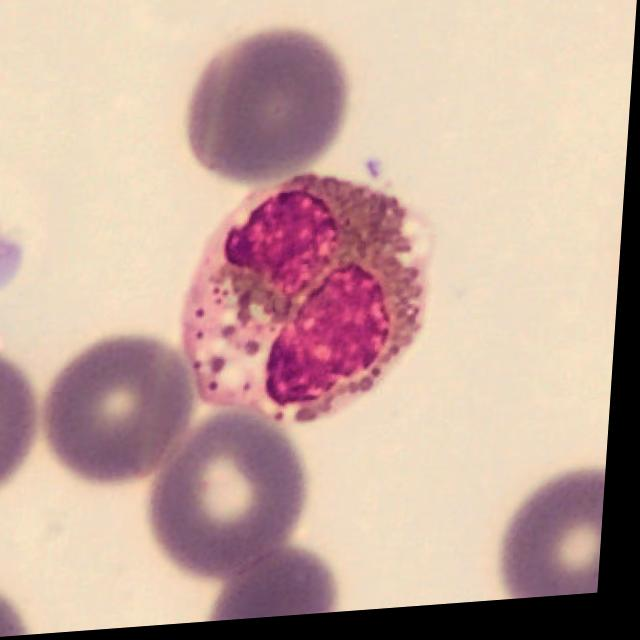Eosinofilo: (184, 175, 441, 429)
